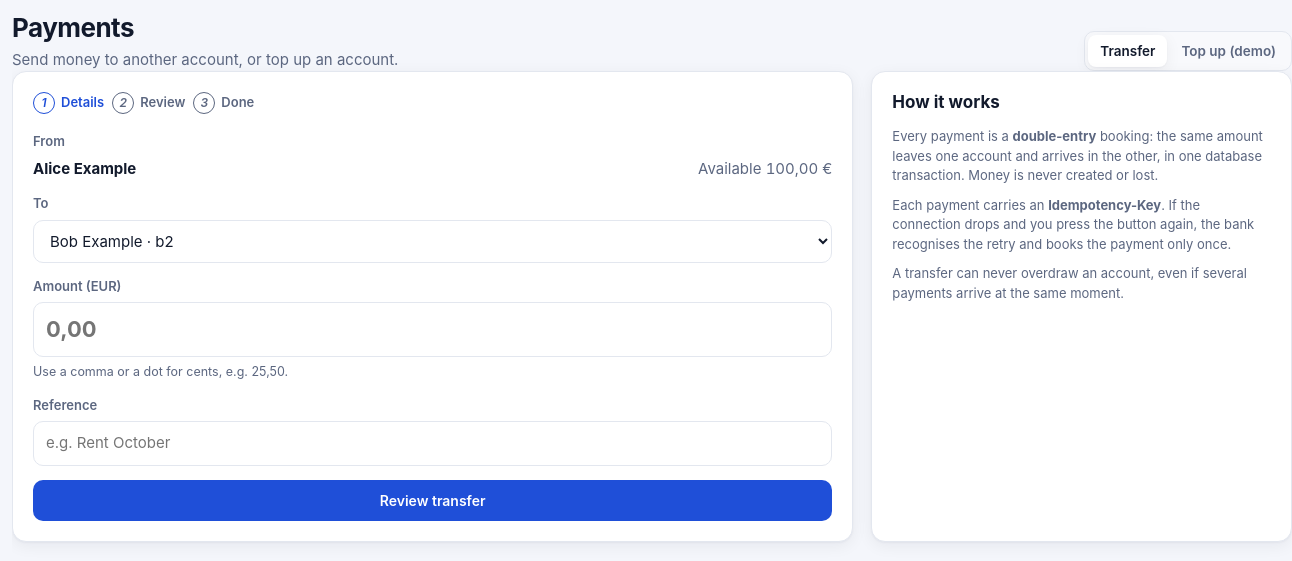
it: PaymentsPage transfer › reviews, then sends one transfer with an Idempotency-Key and shows a receipt
The image size is (1292, 561).
Type "25,50" into the field labelled "Amount (EUR)" at (433, 330), box [33,302,832,357]
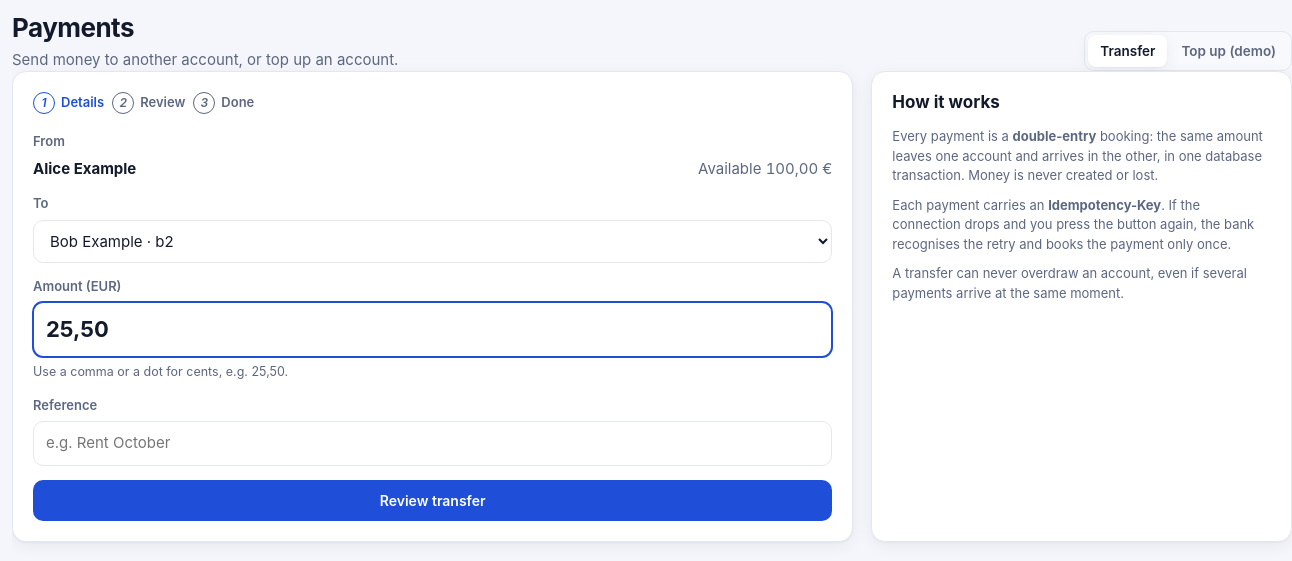
Type "Rent" into the field labelled "Reference" at (433, 444), box [33,421,832,466]
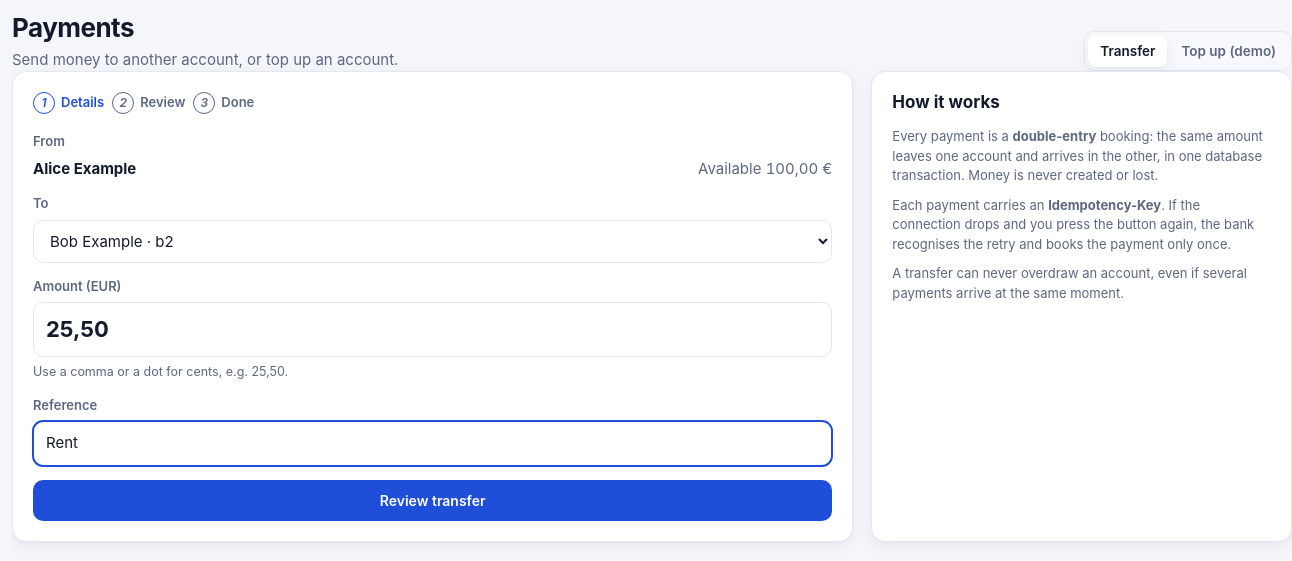
Click the button "Review transfer" at (433, 500), box [33,480,832,521]
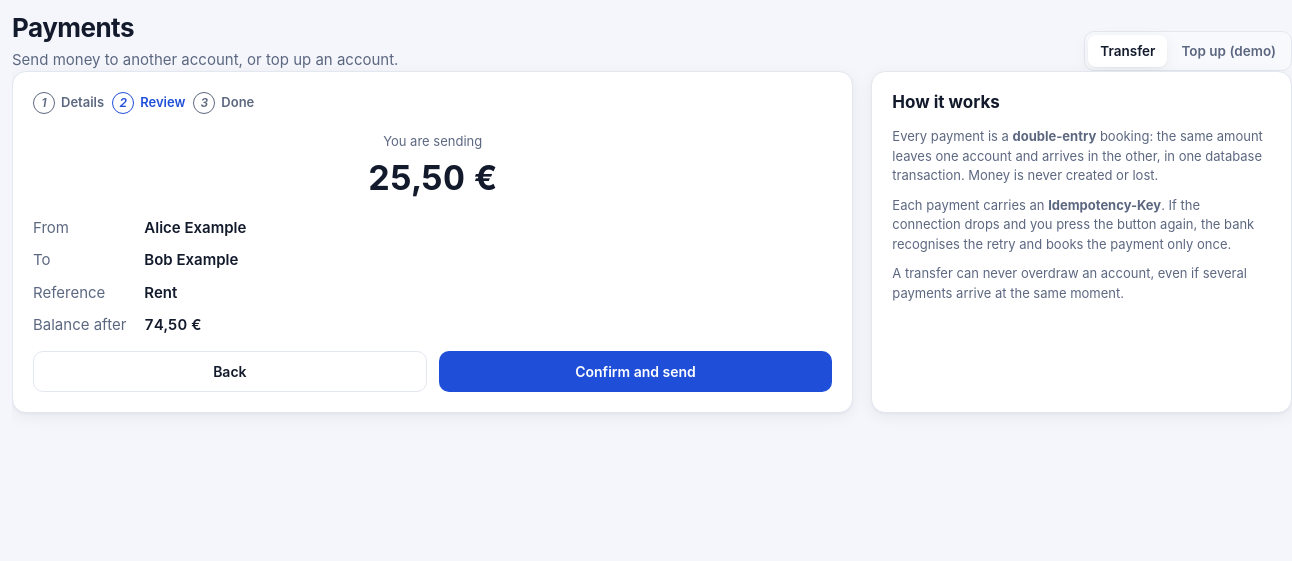
Expected: the text "25,50 €" is shown, [368,156,497,198]
Expected: the text "Bob Example" is shown, [144,250,238,269]
Click the button "Confirm and send" at (636, 371), box [439,350,832,392]
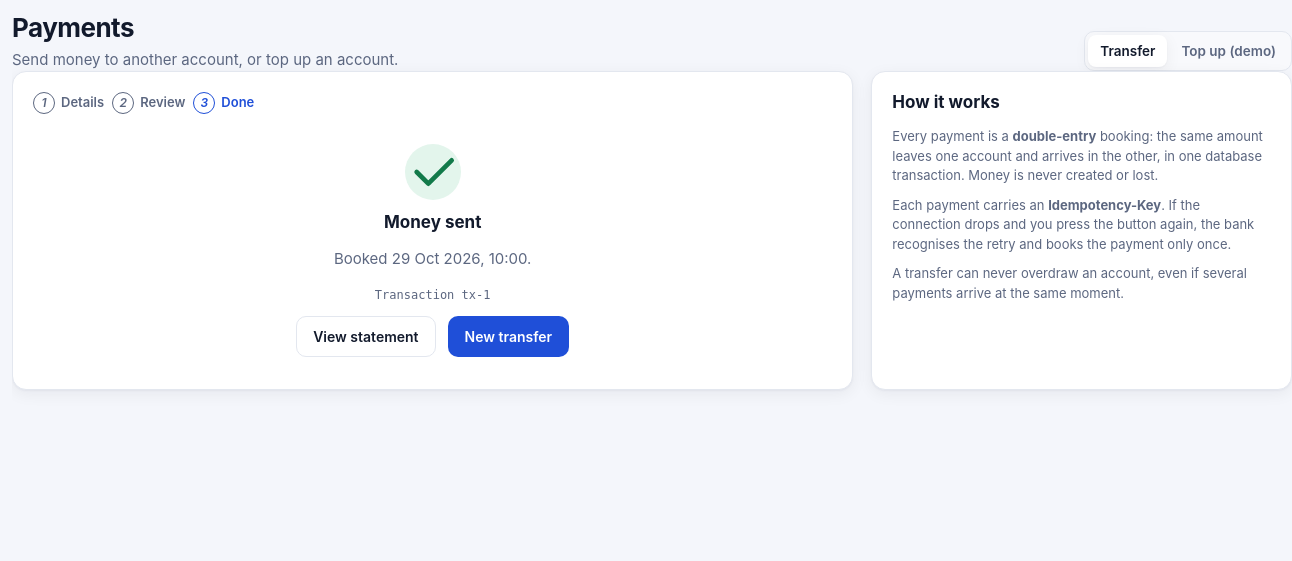
Expected: the heading "Money sent" is shown, [384,212,481,232]
